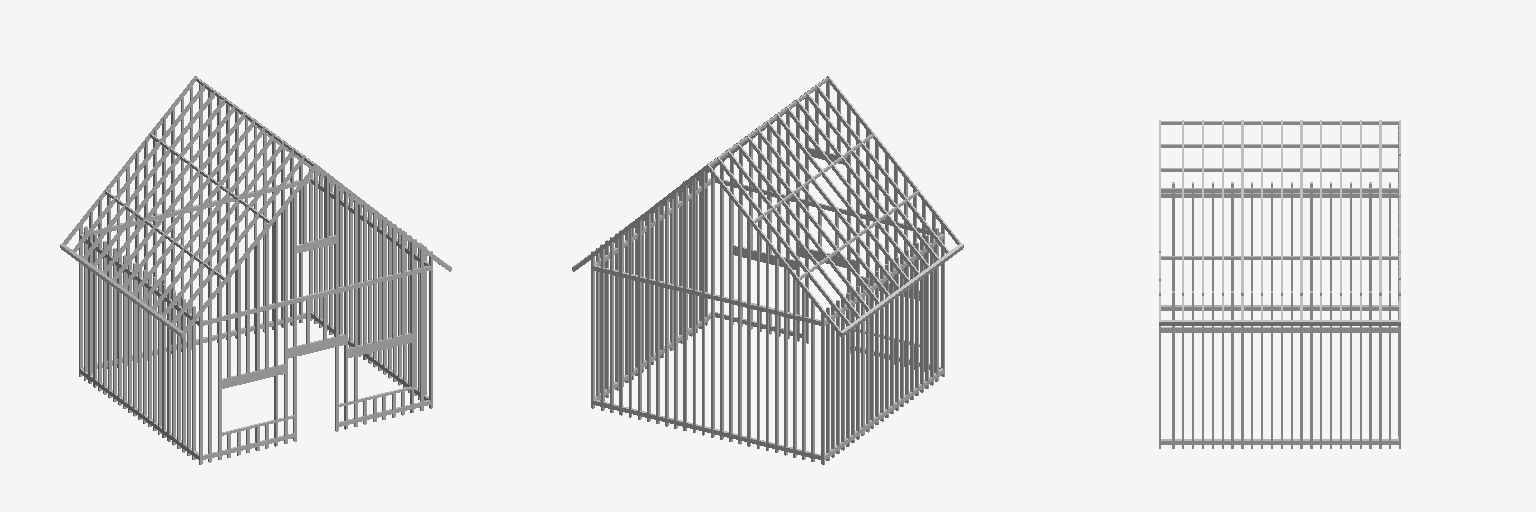
File: Frame_SteepAngledStraight.obj
3 views of the same model, side by side, from view 1: azimuth 30°, elevation 25°; view 2: azimuth 150°, elevation 25°; view 3: azimuth 270°, elevation 25° (orthographic).
Parts seen in each view (by area): view 1: Frame_SteepAngledStraight1; view 2: Frame_SteepAngledStraight1; view 3: Frame_SteepAngledStraight1.
Part boxes in pixels (x1,y1,x2,y2): Frame_SteepAngledStraight1: (60,76,451,464); Frame_SteepAngledStraight1: (572,76,963,464); Frame_SteepAngledStraight1: (1159,120,1400,448).
Bounding box in the file's own units: 638 × 612 × 495.